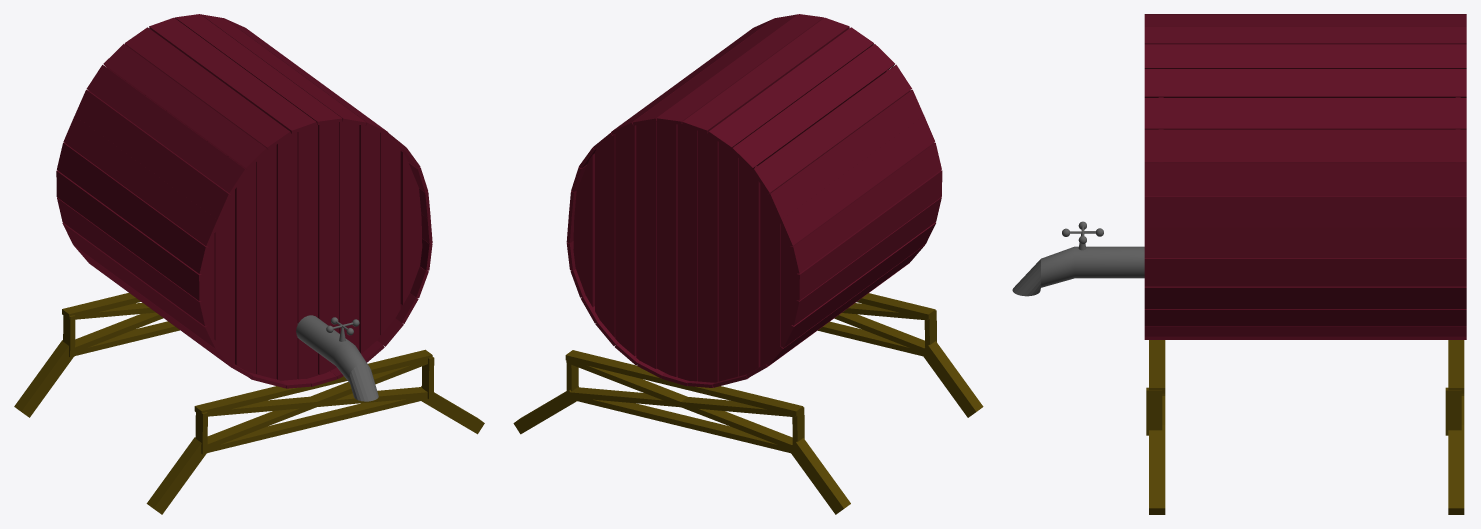
Rendered from BarilVin.fbx.
3 views of the same model, side by side, from view 1: azimuth 30°, elevation 25°; view 2: azimuth 150°, elevation 25°; view 3: azimuth 270°, elevation 25° (orthographic). The views are drawn at different scales.
Visible parts, largest first — view 1: pCube20, pCube31, pCube10, pCube9, pCube18, pCube15, pCube19, pCube35, pCube30, pCube32, pCube34, pCube33 (+25 smaller); view 2: pCube44, pCube20, pCube43, pCube10, pCube9, pCube42, pCube18, pCube45, pCube15, pCube19, pCube41, pCube46 (+24 smaller); view 3: pCube7 (×2), pCube6 (×2), pCube8 (×2), pCube5 (×2), pCube4, pCube3, pCube2, pCube1, pCylinder1, pCube21, pCube55, pCube61 (+6 smaller).
Boxes of the visible parts, x1=… form: pCube20: x1=86, y1=65, x2=247, y2=194; pCube31: x1=276, y1=132, x2=297, y2=380; pCube10: x1=103, y1=44, x2=267, y2=170; pCube9: x1=75, y1=89, x2=231, y2=220; pCube18: x1=63, y1=116, x2=219, y2=246; pCube15: x1=124, y1=27, x2=291, y2=149; pCube19: x1=57, y1=142, x2=208, y2=274; pCube35: x1=359, y1=125, x2=380, y2=353; pCube30: x1=256, y1=144, x2=276, y2=379; pCube32: x1=297, y1=125, x2=317, y2=379; pCube34: x1=339, y1=121, x2=359, y2=350; pCube33: x1=318, y1=122, x2=338, y2=374; pCube44: x1=656, y1=121, x2=677, y2=376; pCube20: x1=751, y1=64, x2=911, y2=194; pCube43: x1=677, y1=124, x2=697, y2=381; pCube10: x1=731, y1=44, x2=894, y2=169; pCube9: x1=767, y1=89, x2=923, y2=220; pCube42: x1=698, y1=130, x2=718, y2=382; pCube18: x1=779, y1=115, x2=934, y2=246; pCube45: x1=636, y1=122, x2=656, y2=368; pCube15: x1=708, y1=27, x2=873, y2=149; pCube19: x1=790, y1=142, x2=941, y2=273; pCube41: x1=718, y1=142, x2=738, y2=381; pCube46: x1=615, y1=125, x2=636, y2=356; pCube7 (×2): x1=1144, y1=69, x2=1466, y2=227; pCube6 (×2): x1=1144, y1=44, x2=1466, y2=195; pCube8 (×2): x1=1144, y1=26, x2=1466, y2=162; pCube5 (×2): x1=1144, y1=15, x2=1466, y2=129; pCube4: x1=1144, y1=227, x2=1466, y2=258; pCube3: x1=1144, y1=258, x2=1466, y2=286; pCube2: x1=1144, y1=286, x2=1466, y2=309; pCube1: x1=1144, y1=309, x2=1466, y2=326; pCylinder1: x1=1012, y1=246, x2=1144, y2=296; pCube21: x1=1144, y1=326, x2=1466, y2=336; pCube55: x1=1149, y1=425, x2=1165, y2=514; pCube61: x1=1448, y1=425, x2=1464, y2=514.
Size of the model in its own units: 26.89 by 27.71 by 28.28.
